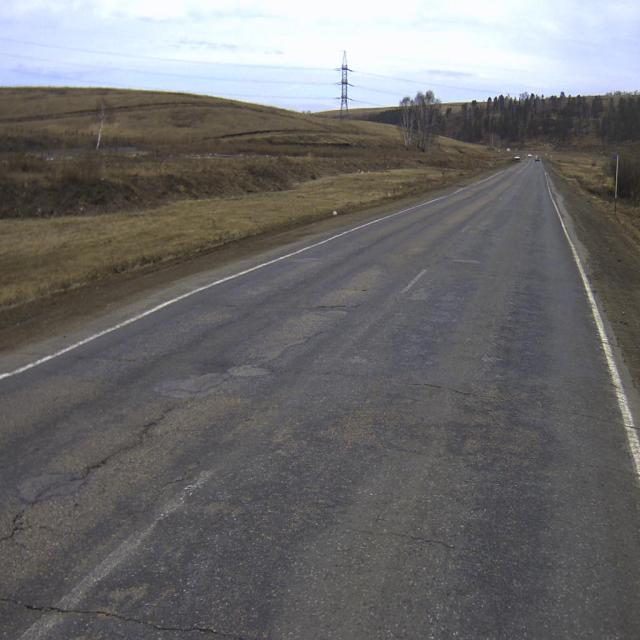road: (0, 158, 640, 639), (0, 358, 1, 368)
